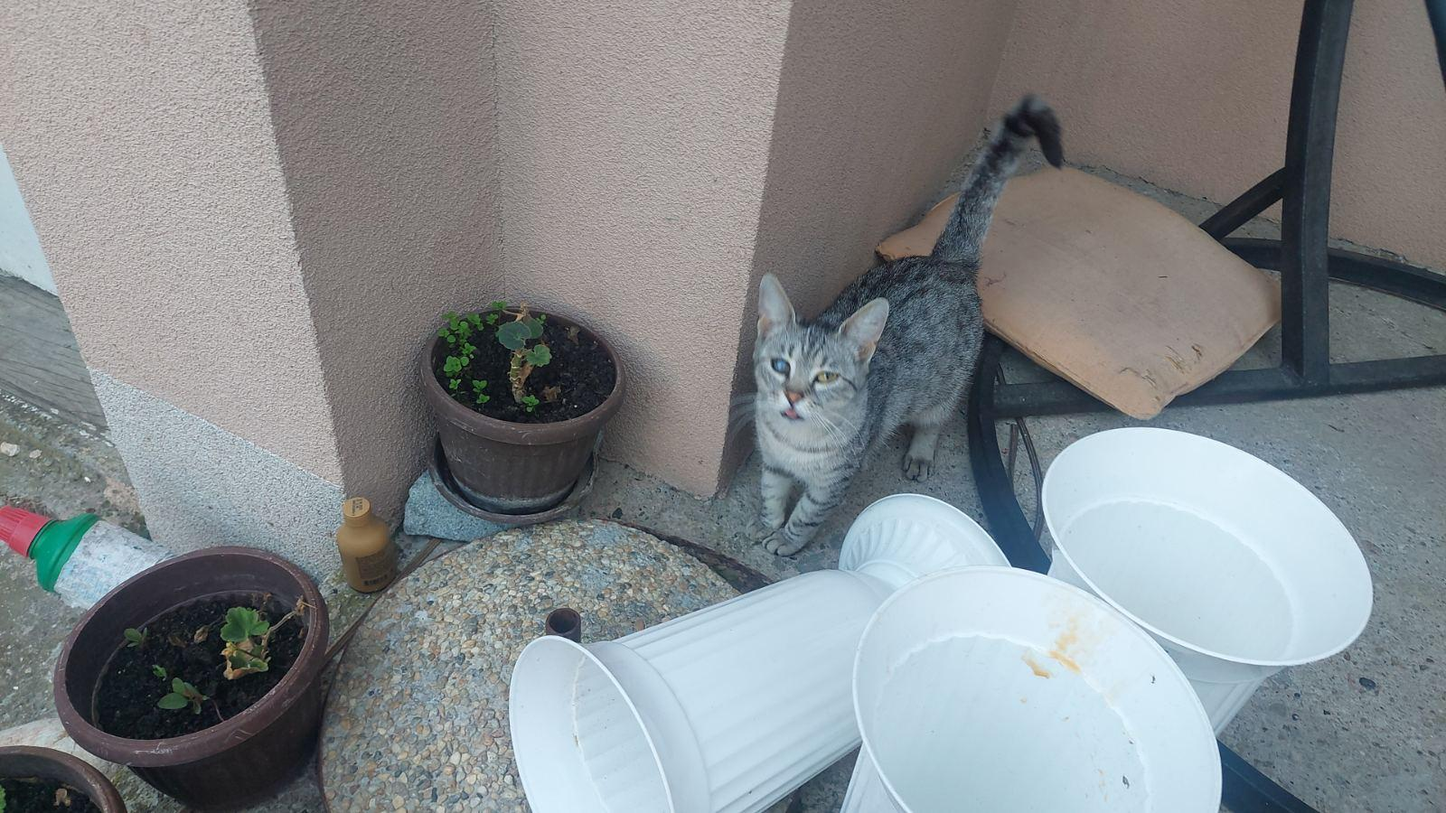macka: (754, 87, 1072, 562)
